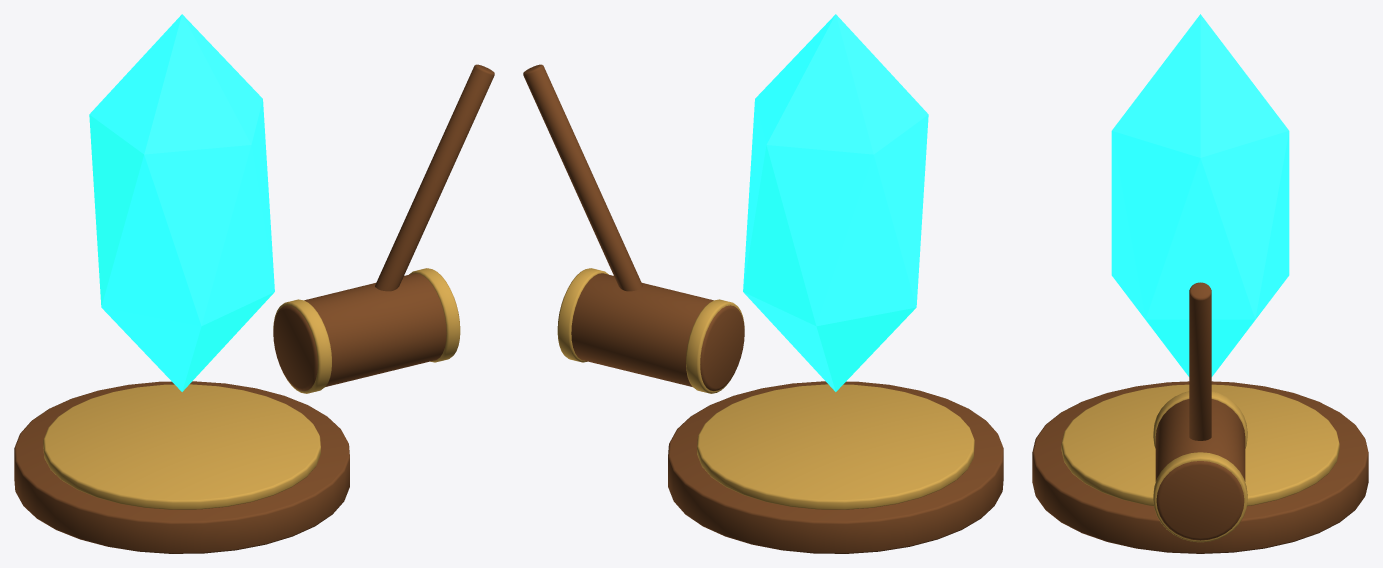
Rendered from equiclear.glb.
The picture shows the model from 3 angles, left to right: view 1: azimuth 30°, elevation 25°; view 2: azimuth 150°, elevation 25°; view 3: azimuth 270°, elevation 25°; orthographic projection.
Parts seen in each view (by area): view 1: Icosphere, Cylinder.001, Cylinder, Cylinder.002, Cylinder.005, Cylinder.003, Cylinder.004; view 2: Icosphere, Cylinder.001, Cylinder, Cylinder.002, Cylinder.005, Cylinder.003, Cylinder.004; view 3: Icosphere, Cylinder, Cylinder.001, Cylinder.002, Cylinder.005, Cylinder.004, Cylinder.003.
Part boxes in pixels (x1,y1,x2,y2): Icosphere: (89, 14, 274, 391); Cylinder.001: (43, 384, 320, 509); Cylinder: (14, 381, 349, 553); Cylinder.002: (273, 273, 459, 391); Cylinder.005: (375, 64, 494, 291); Cylinder.003: (273, 299, 331, 393); Cylinder.004: (409, 268, 460, 362); Icosphere: (743, 14, 928, 391); Cylinder.001: (697, 384, 974, 509); Cylinder: (668, 381, 1003, 553); Cylinder.002: (558, 273, 744, 391); Cylinder.005: (523, 64, 642, 291); Cylinder.003: (686, 299, 744, 393); Cylinder.004: (557, 268, 608, 362); Icosphere: (1111, 14, 1289, 376); Cylinder: (1032, 381, 1368, 553); Cylinder.001: (1061, 384, 1339, 505); Cylinder.002: (1155, 399, 1245, 540); Cylinder.005: (1189, 282, 1211, 440); Cylinder.004: (1153, 452, 1247, 542); Cylinder.003: (1153, 391, 1247, 448).
Bounding box in the file's own units: 2.35 × 2.31 × 1.5.
